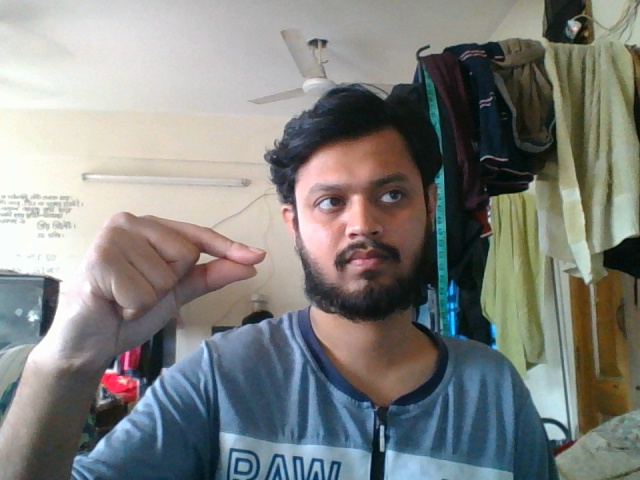onushhar: (47, 208, 272, 359)
